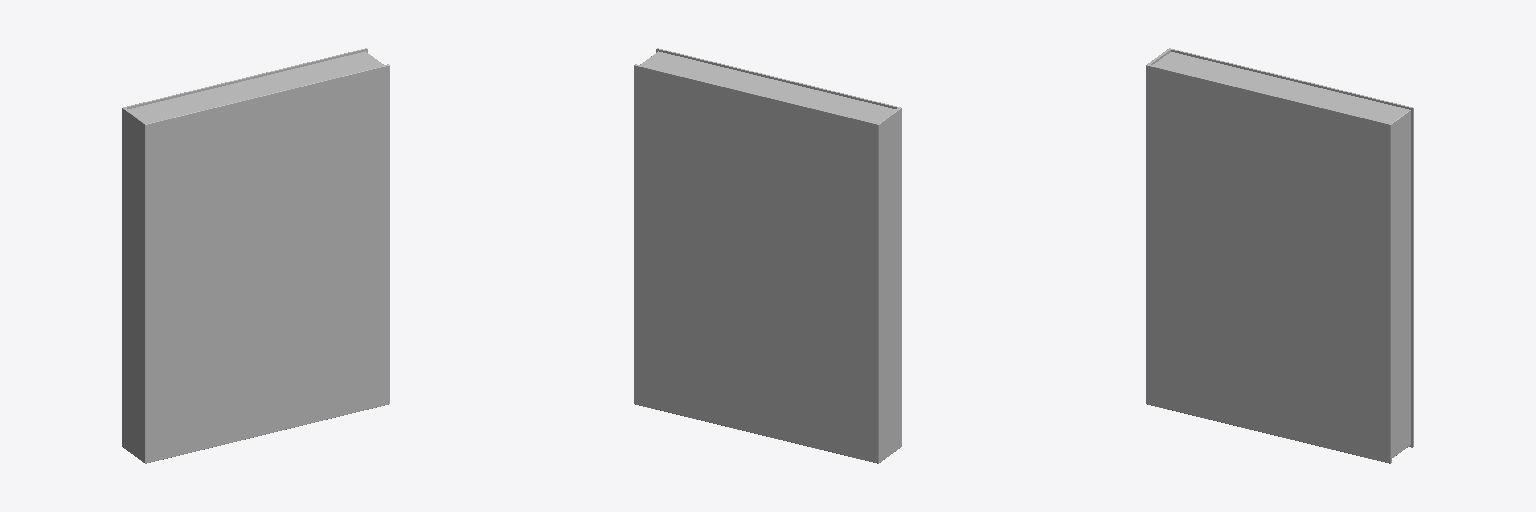
Rendered from book.obj.
3 renders of one model, left to right at view 1: azimuth 30°, elevation 25°; view 2: azimuth 150°, elevation 25°; view 3: azimuth 330°, elevation 25°, orthographic.
Visible parts, largest first — view 1: pCube3; view 2: pCube3; view 3: pCube3.
Part boxes in pixels (bbox=[...]): pCube3: bbox=[122, 48, 389, 463]; pCube3: bbox=[634, 48, 901, 463]; pCube3: bbox=[1146, 48, 1413, 463].
Size of the model in its own units: 0.2343 by 0.3105 by 0.0387.